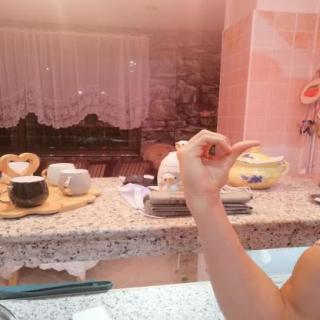WAW: (168, 121, 266, 205)
